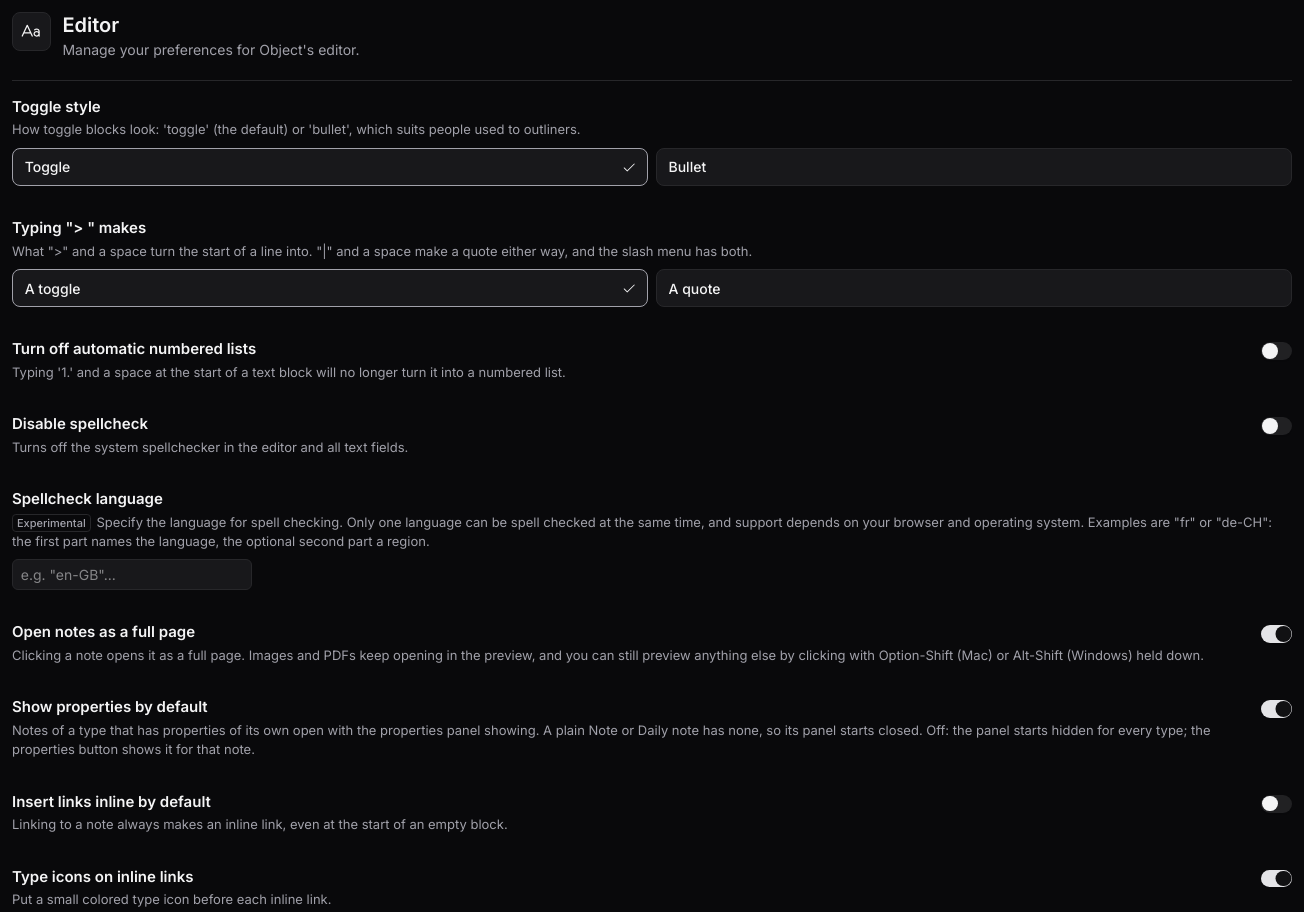
Scenario: EditorSection › test spellcheck language saves a normalised tag and refuses a bad one
Later steps or results of the test are not shown.
Type "english" into the field named "Spellcheck language" at (132, 575), box left=12, top=559, right=252, bottom=590
Then press Enter
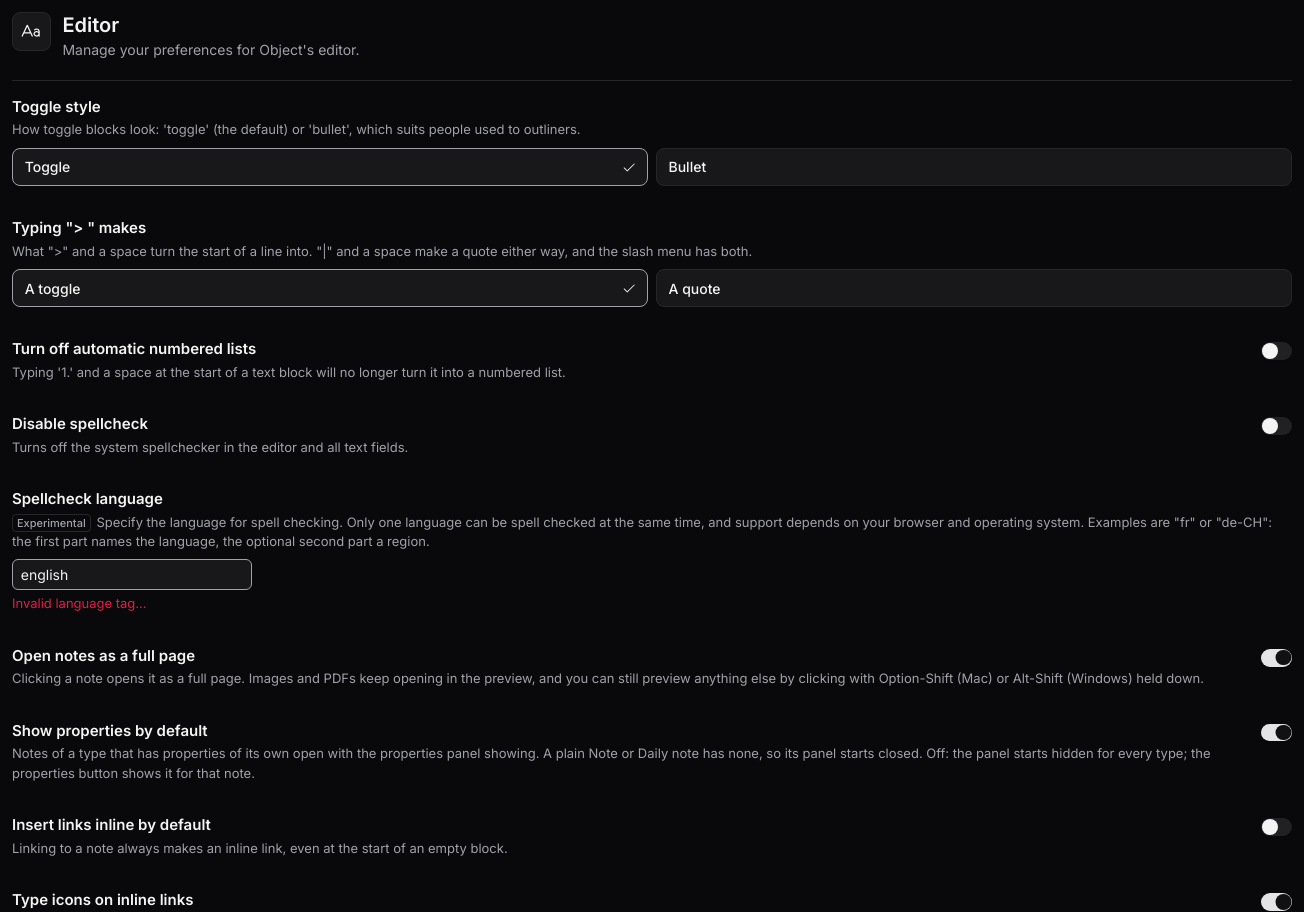
Check: the text "Invalid language tag..." is shown, box left=12, top=595, right=147, bottom=611
